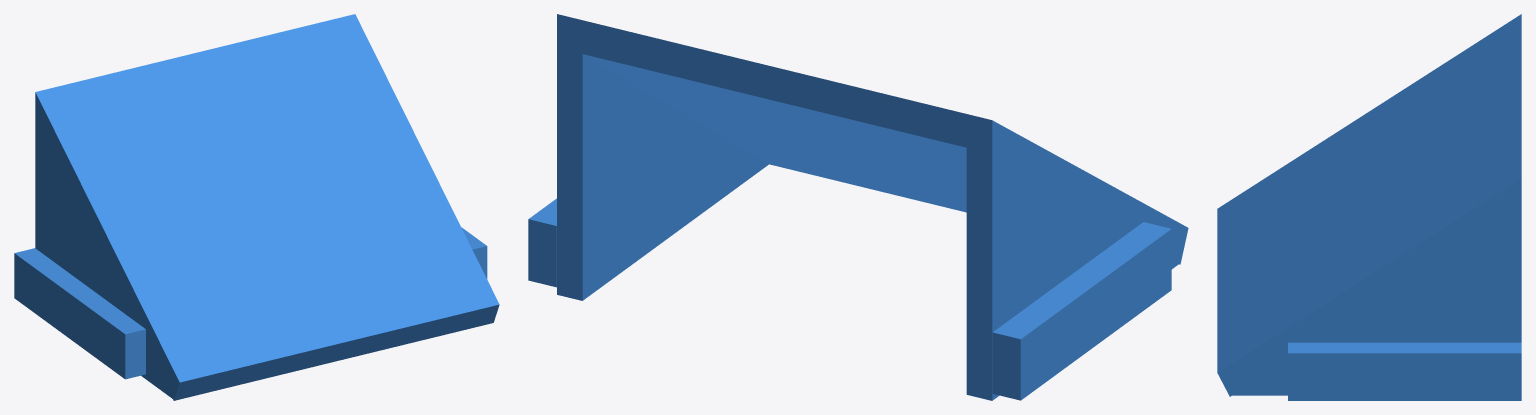
File: Collision_Roof_Wooden_2x1.fbx
The picture shows the model from 3 angles, left to right: view 1: azimuth 30°, elevation 25°; view 2: azimuth 150°, elevation 25°; view 3: azimuth 270°, elevation 25°; orthographic projection. The views are drawn at different scales.
Parts seen in each view (by area): view 1: UCX_Roof_Wooden_2x1_01; view 2: UCX_Roof_Wooden_2x1_01; view 3: UCX_Roof_Wooden_2x1_01.
Boxes of the visible parts, x1,y1,x2,y2 form: UCX_Roof_Wooden_2x1_01: (14,14,499,400); UCX_Roof_Wooden_2x1_01: (528,14,1188,400); UCX_Roof_Wooden_2x1_01: (1217,14,1521,400).
Size of the model in its own units: 226 by 124 by 156.
